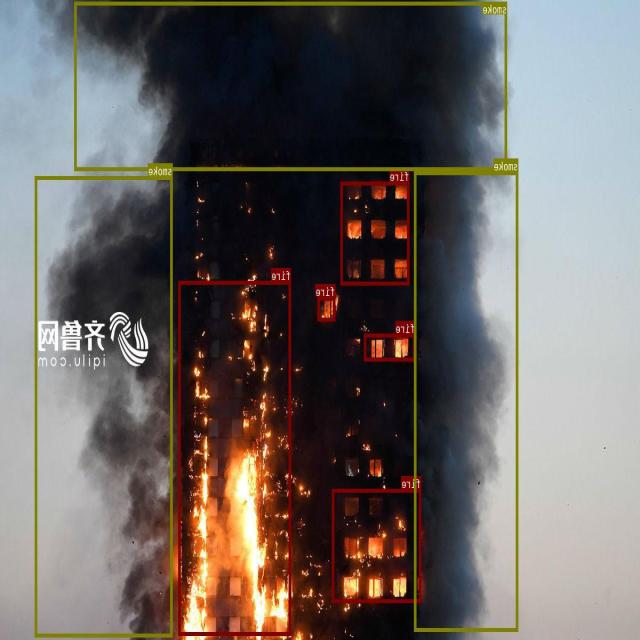fire: (179, 280, 292, 635), (332, 488, 422, 602), (341, 181, 410, 284), (364, 333, 416, 361), (318, 297, 336, 320)
smoke: (75, 1, 507, 170), (36, 176, 173, 637), (415, 170, 518, 630)
